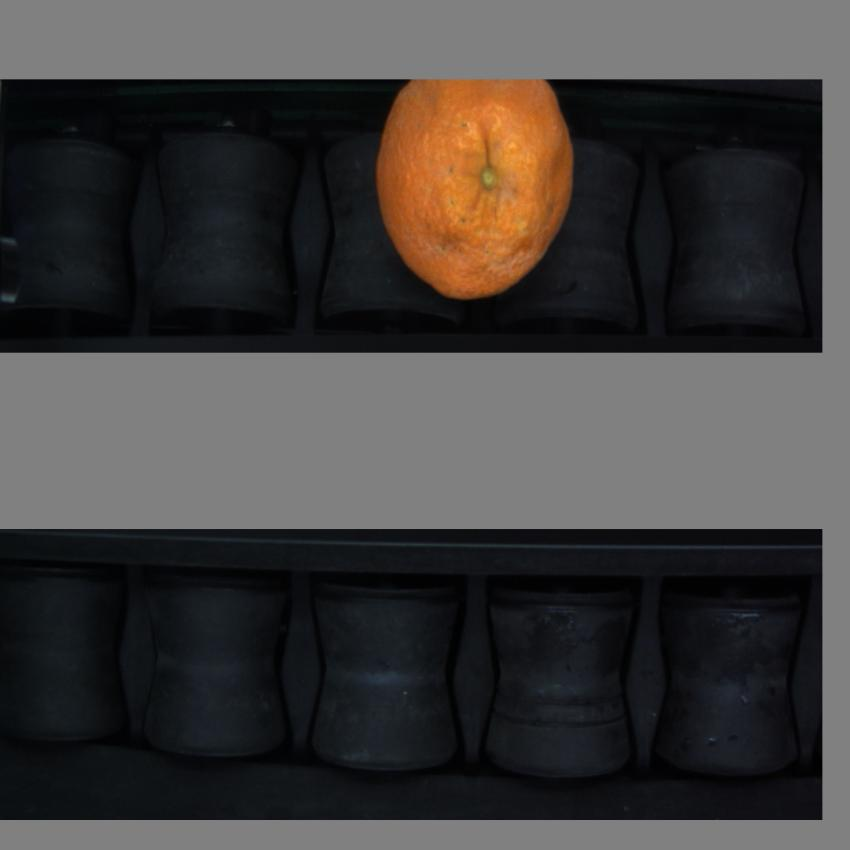Mal estado: (374, 82, 597, 305)
